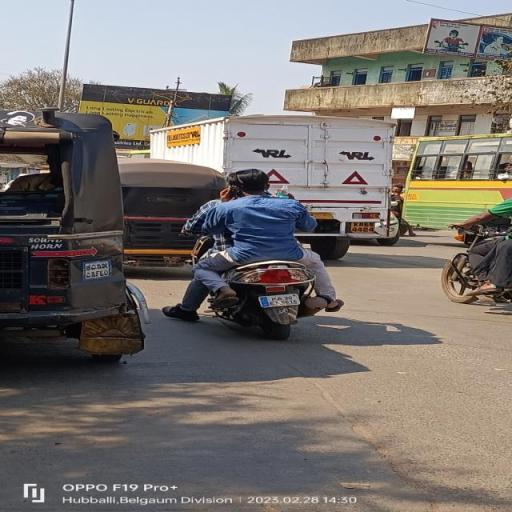bike: (182, 168, 344, 343)
numberplate: (258, 290, 301, 308)
withouthelmet: (234, 170, 268, 192)
